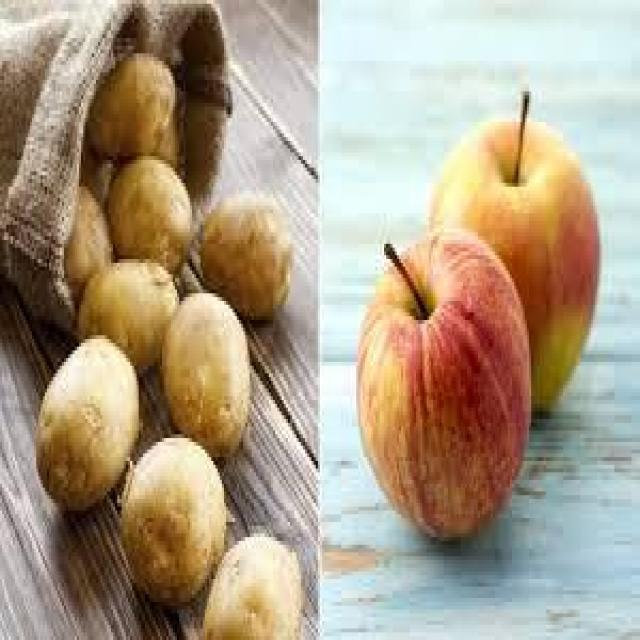Fresh Apple: (366, 238, 526, 520), (445, 108, 605, 390)
